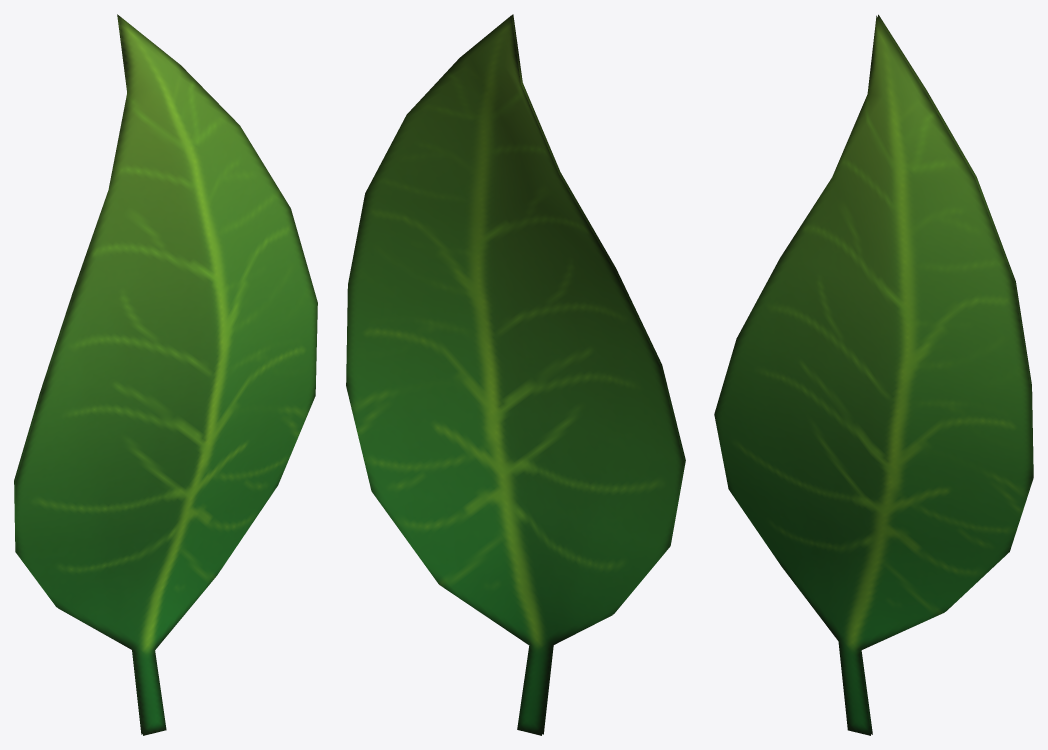
File: Weapon_Yezi_fbx.FBX
The picture shows the model from 3 angles, left to right: view 1: azimuth 30°, elevation 25°; view 2: azimuth 150°, elevation 25°; view 3: azimuth 330°, elevation 25°; orthographic projection. The views are drawn at different scales.
Visible parts, largest first — view 1: Line002; view 2: Line002; view 3: Line002.
Boxes of the visible parts, left/top/right/bottom form: Line002: left=14, top=14, right=317, bottom=735; Line002: left=346, top=14, right=685, bottom=735; Line002: left=714, top=14, right=1033, bottom=735.
Bounding box in the file's own units: 0.0448 × 0.0967 × 0.0108.
